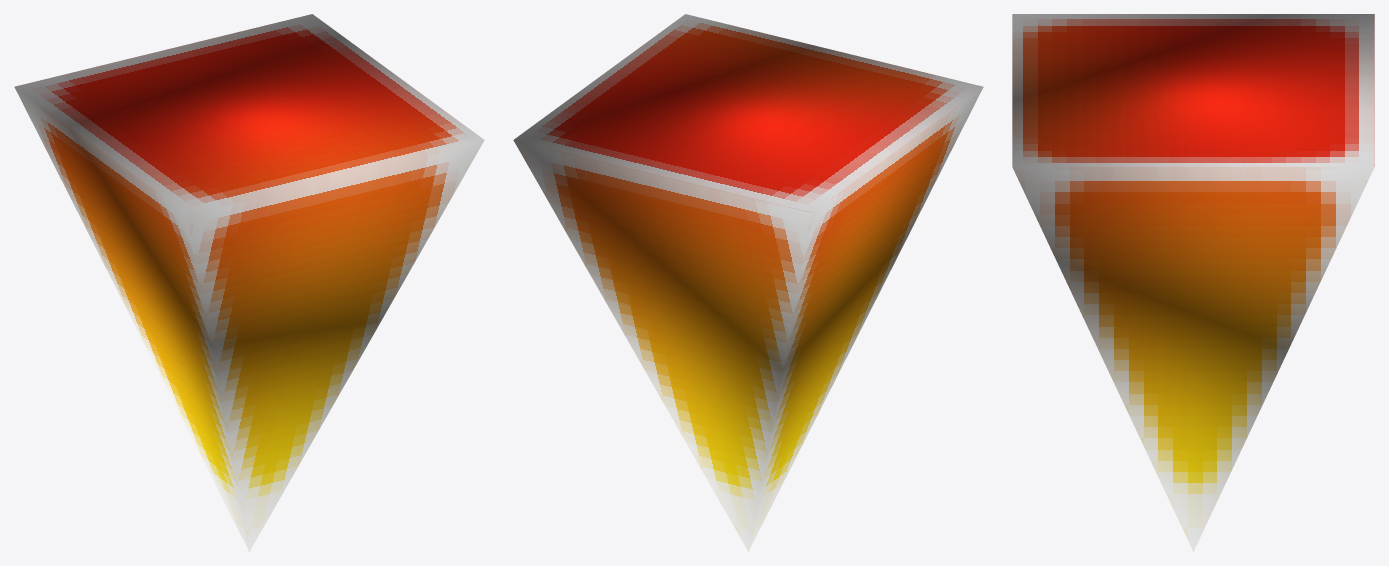
The model's file is point.fbx.
3 renders of one model, left to right at view 1: azimuth 30°, elevation 25°; view 2: azimuth 150°, elevation 25°; view 3: azimuth 270°, elevation 25°, orthographic. The views are drawn at different scales.
Visible parts, largest first — view 1: pCube1; view 2: pCube1; view 3: pCube1.
Boxes of the visible parts, x1,y1,x2,y2 form: pCube1: (14,14,484,551); pCube1: (513,14,983,551); pCube1: (1012,14,1374,551).
Size of what is drawn, in the model's own units: 0.722 by 1.01 by 0.722.
